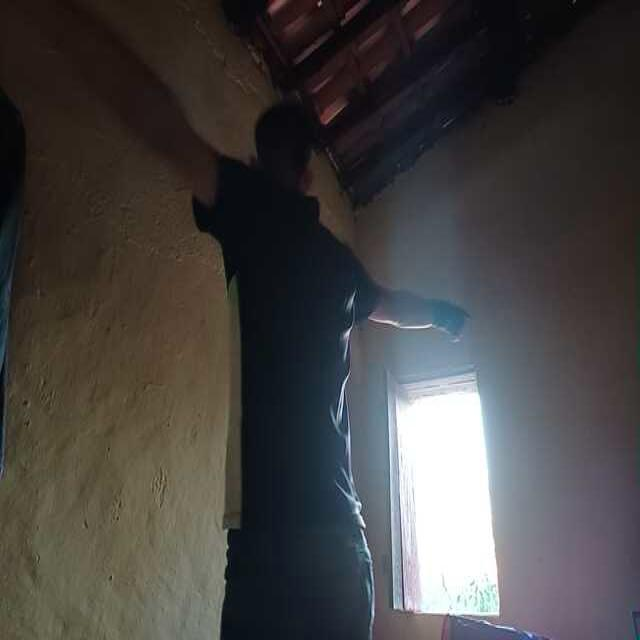pessoa: (143, 14, 470, 640)
